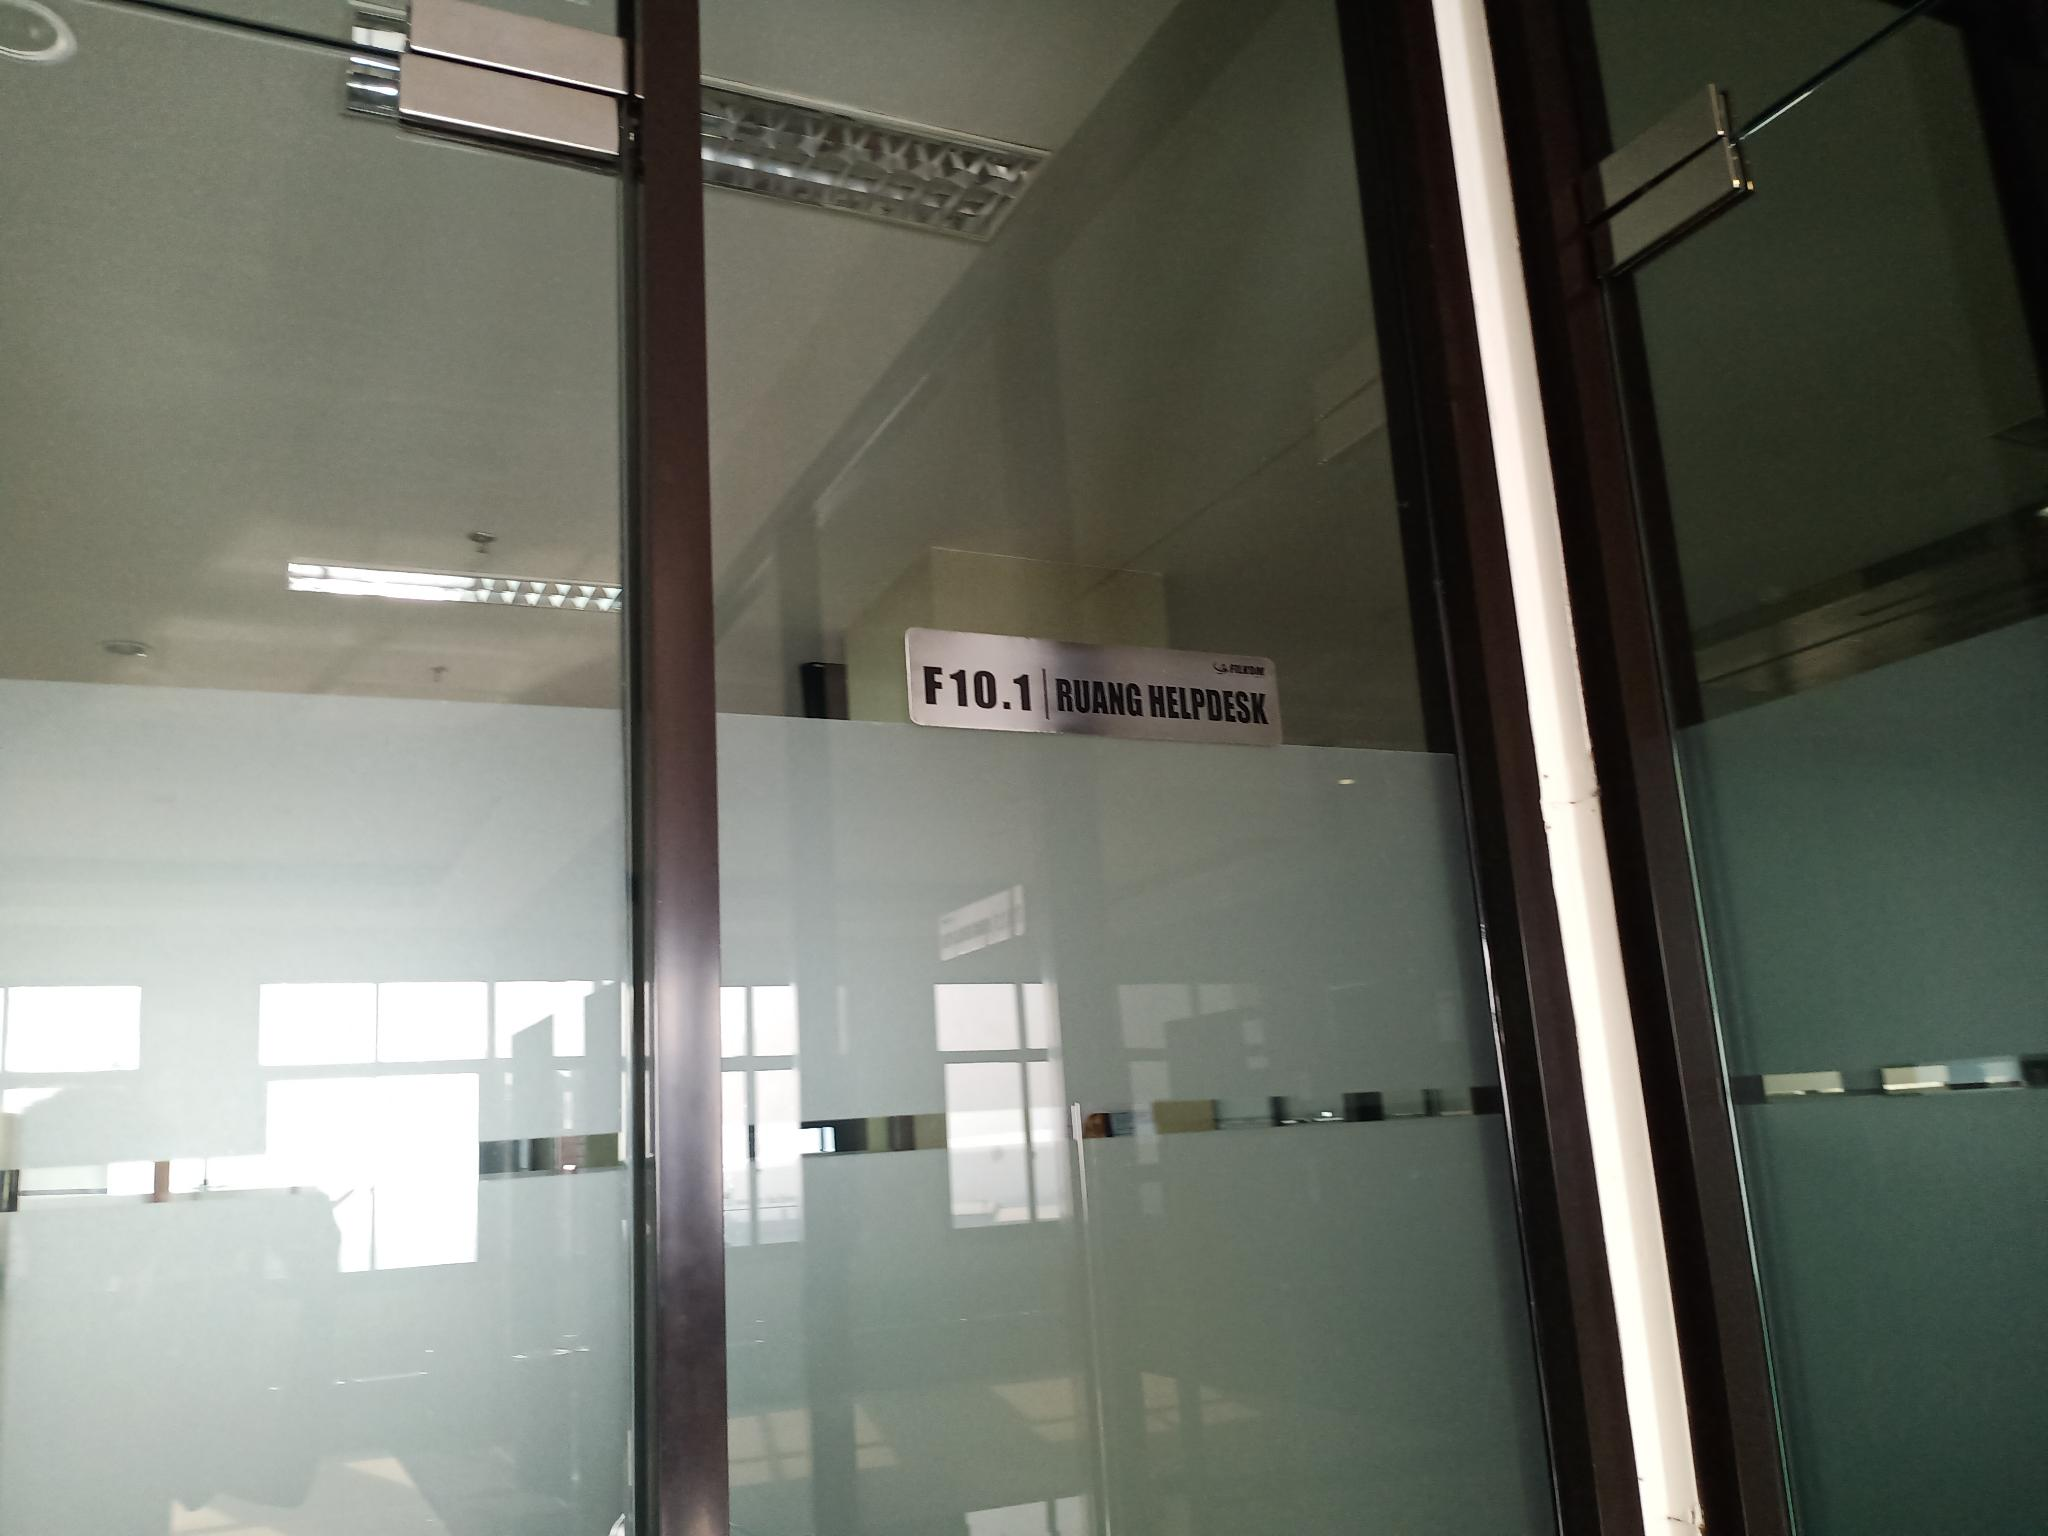plate: (901, 621, 1285, 749)
